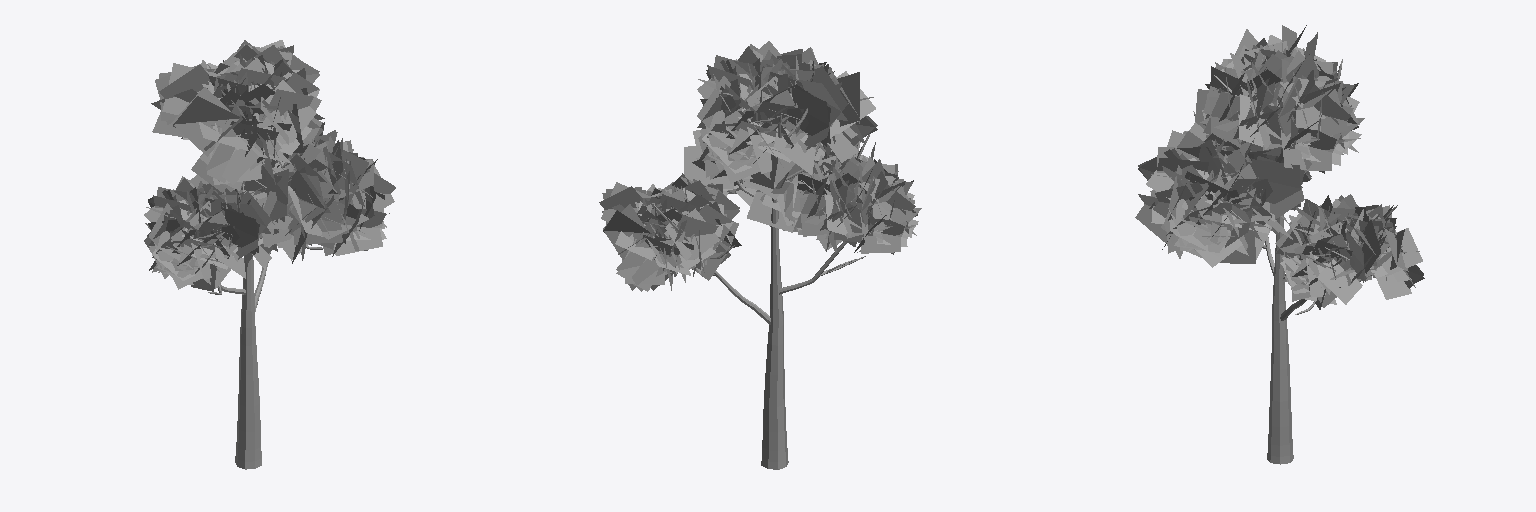
File: BirchTree_5.obj
The picture shows the model from 3 angles: view 1: azimuth 30°, elevation 25°; view 2: azimuth 150°, elevation 25°; view 3: azimuth 270°, elevation 25°; orthographic projection.
Visible parts, largest first — view 1: BirchTree_5_Cube.009; view 2: BirchTree_5_Cube.009; view 3: BirchTree_5_Cube.009.
Boxes of the visible parts, <box> form: BirchTree_5_Cube.009: <box>144,40,395,469</box>; BirchTree_5_Cube.009: <box>599,41,921,469</box>; BirchTree_5_Cube.009: <box>1135,25,1424,464</box>.
Size of the model in its own units: 3.58 by 5.52 by 3.51.